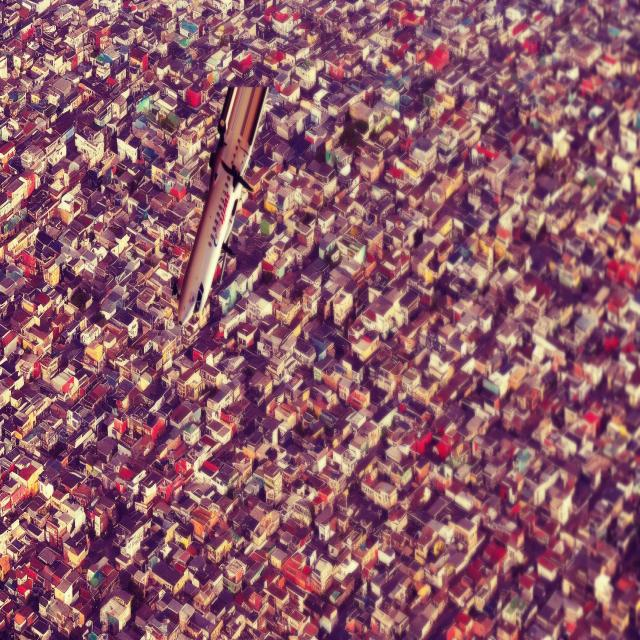airplane: (176, 79, 270, 328)
